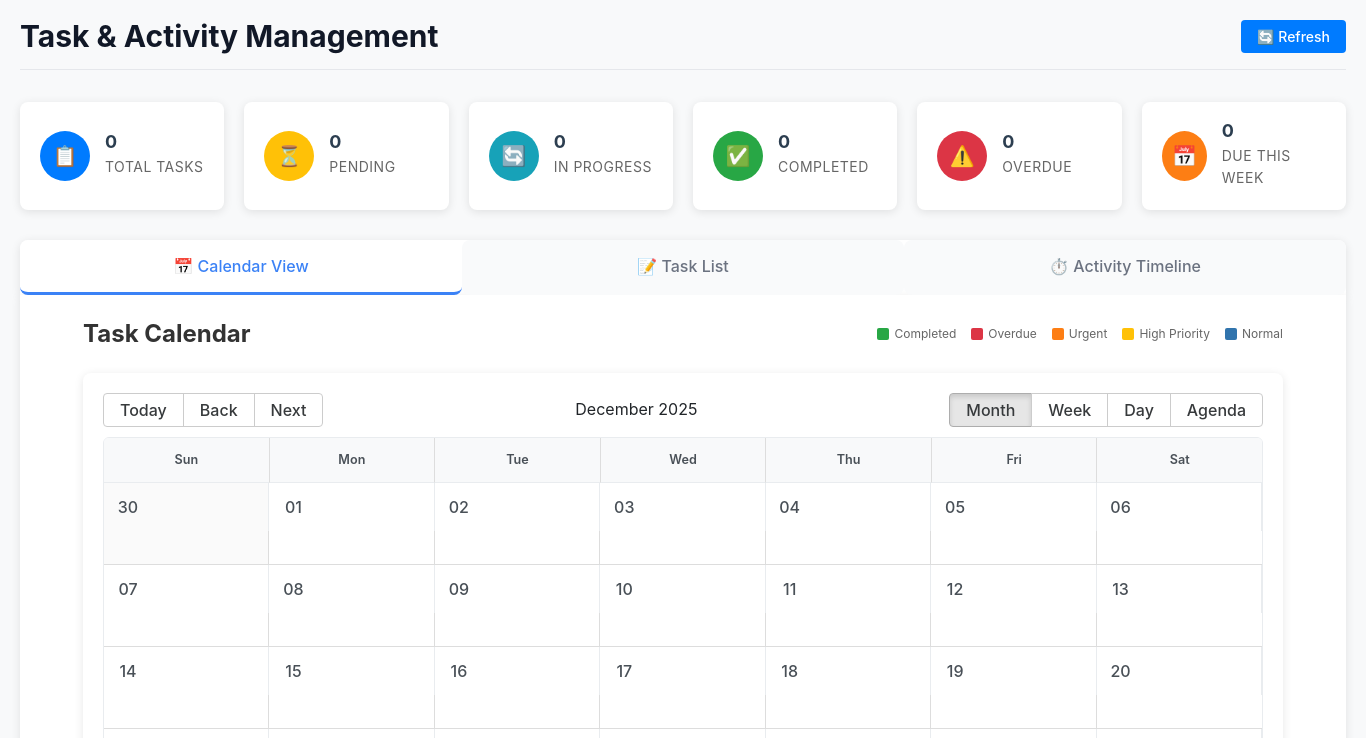
Scenario: TaskDashboard Component › Task List View › shows empty state when no tasks exist
Expected: the text "Total Tasks" is shown, [105,156,204,179]
Click the button "📝 Task List". click: [683, 267]
box: [462,240,904,295]
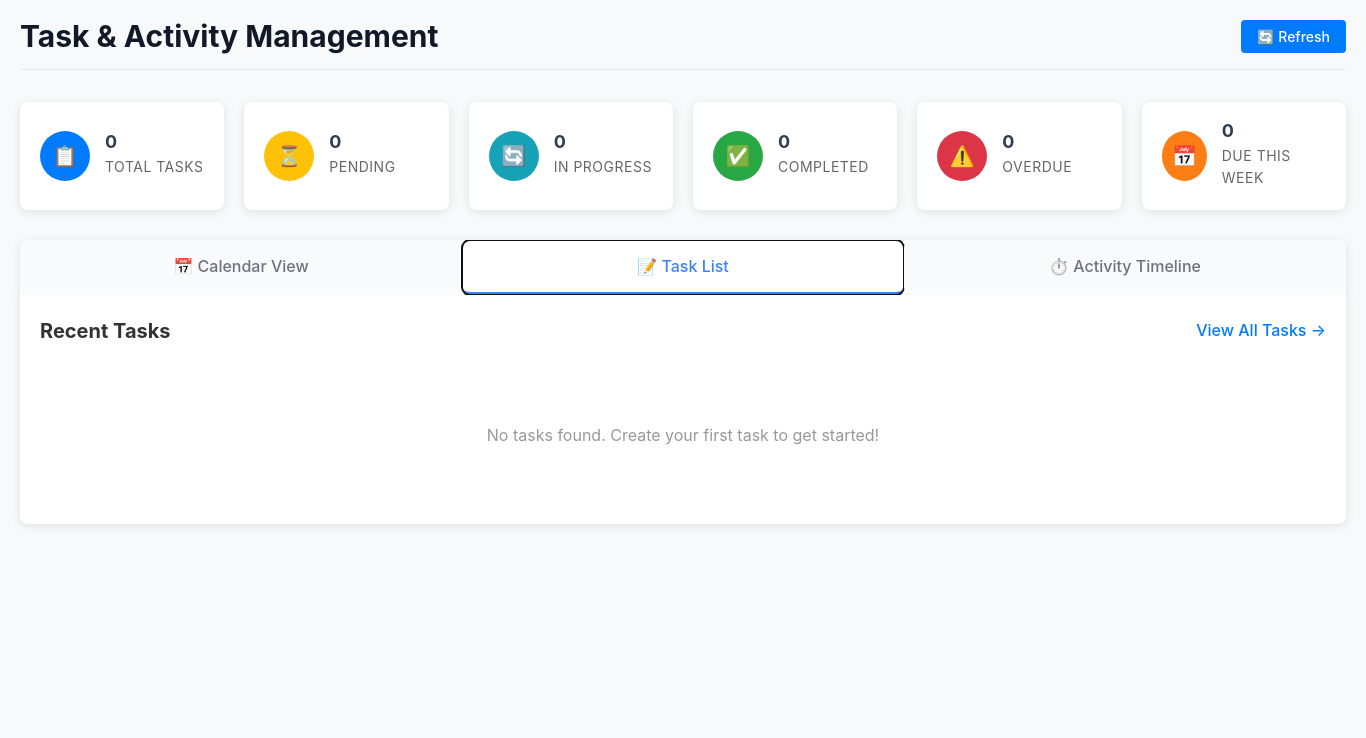
Expected: the text "No tasks found. Create your first task to get started!" is shown, [487,425,879,445]
